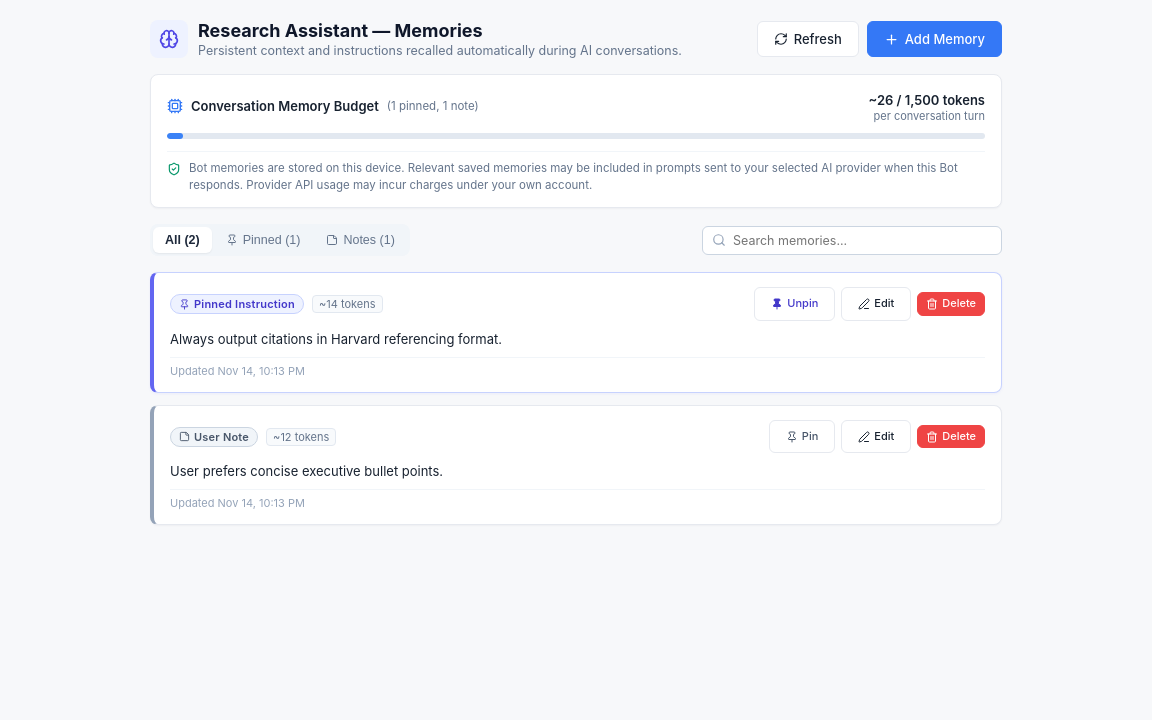
Test: Renderer: BotMemorySection (Phase 9 Step 9.3) › 10. deletes a memory with confirmation dialog
Click the button with test id "memory-delete-btn-mem-2" at (951, 437), box [917,425,985,448]
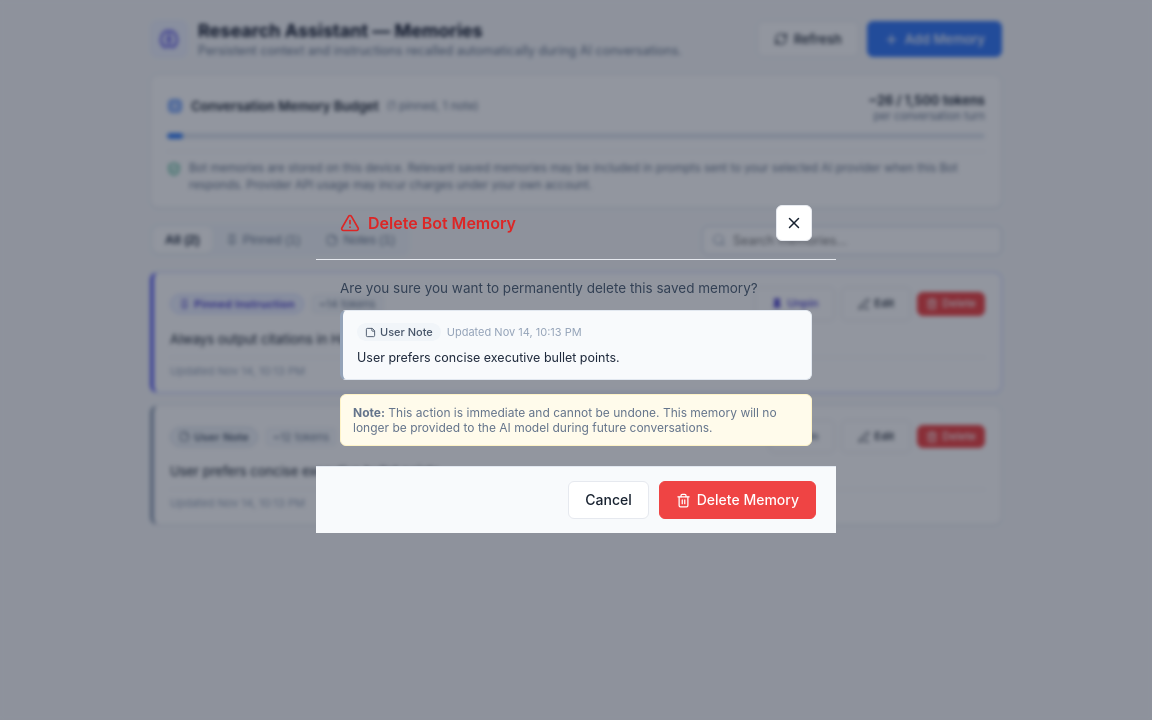
Check: the dialog with test id "bot-memory-delete-modal" is shown
Check: the text with test id "delete-memory-preview" reads "User prefers concise executive bullet points.", box [357,350,620,365]
Click the button with test id "btn-cancel-delete-memory" at (609, 500), box [568,481,649,519]
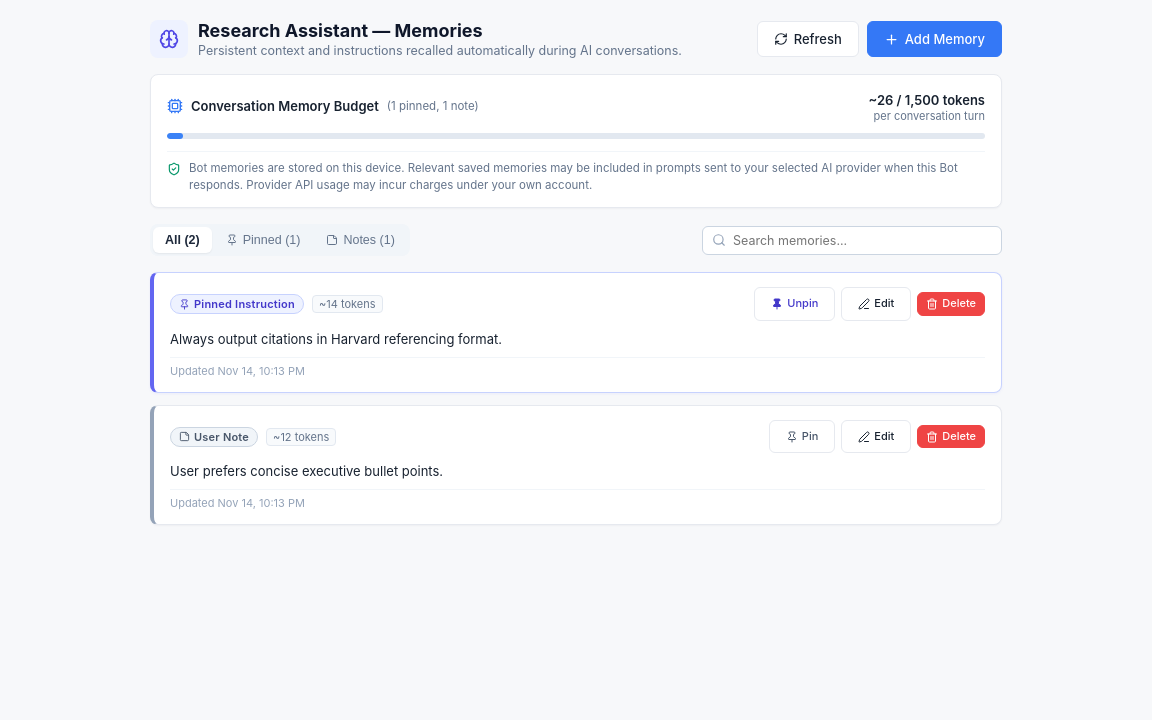
Check: the dialog with test id "bot-memory-delete-modal" is gone
Note: Re-open and confirm
Click the button with test id "memory-delete-btn-mem-2" at (951, 437), box [917,425,985,448]
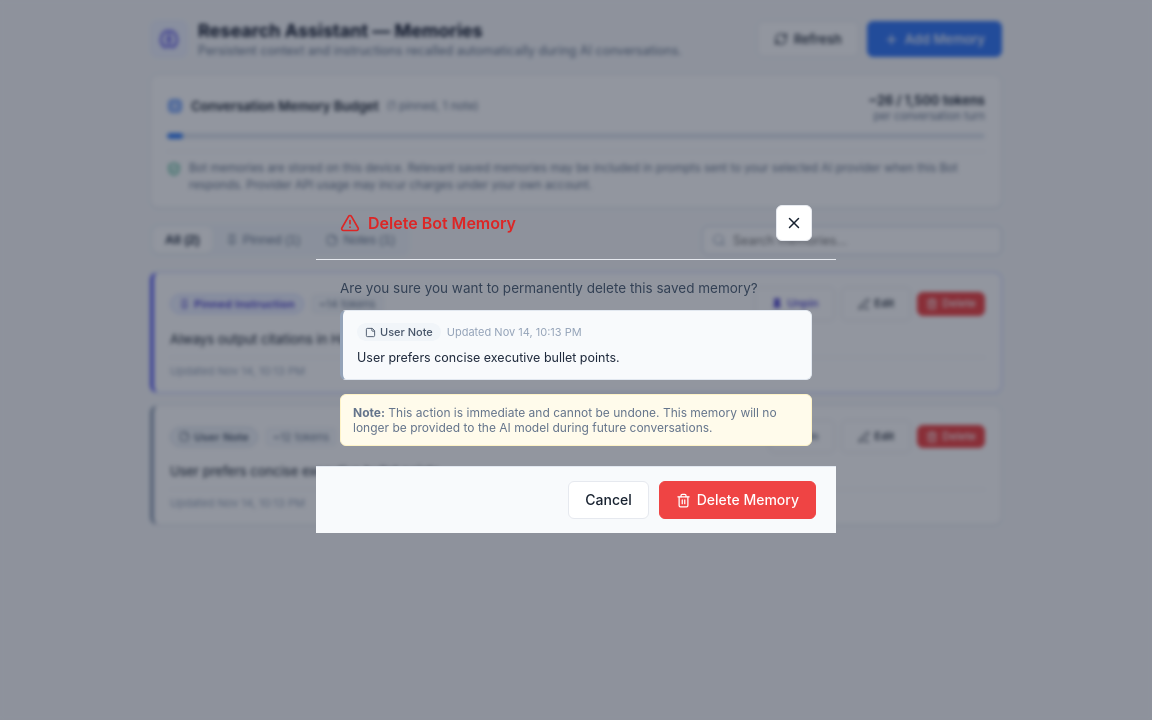
Click the button with test id "btn-confirm-delete-memory" at (737, 500), box [659,481,816,519]
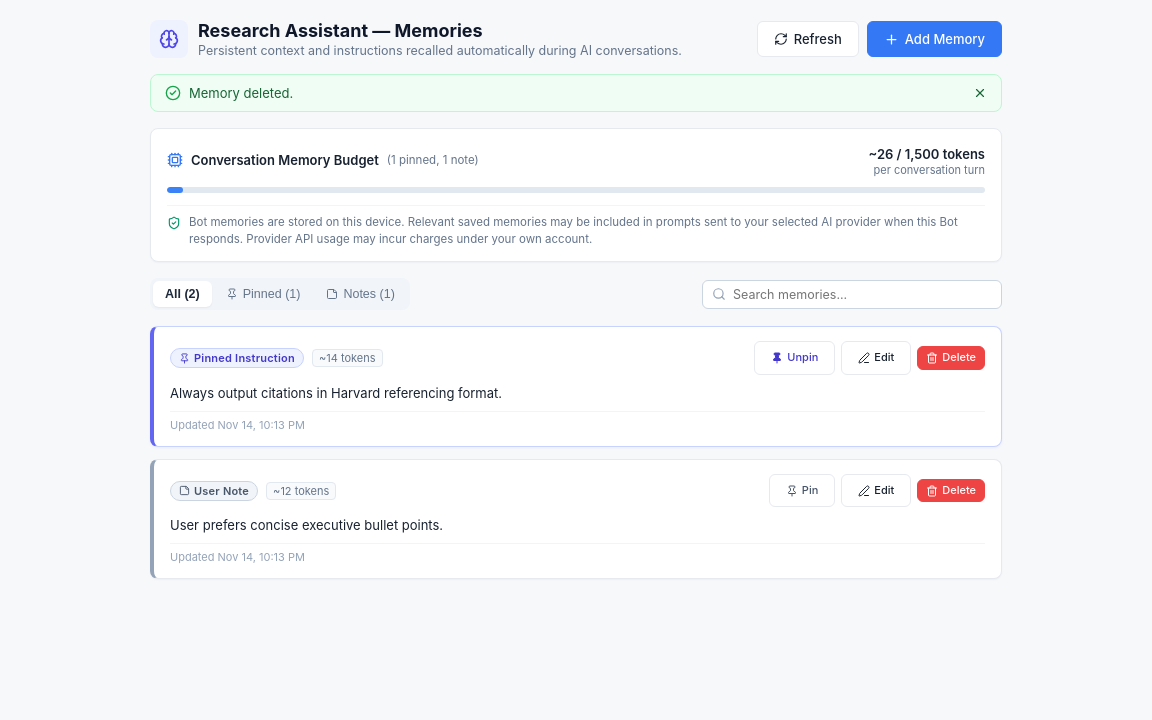
Check: the dialog with test id "bot-memory-delete-modal" is gone
